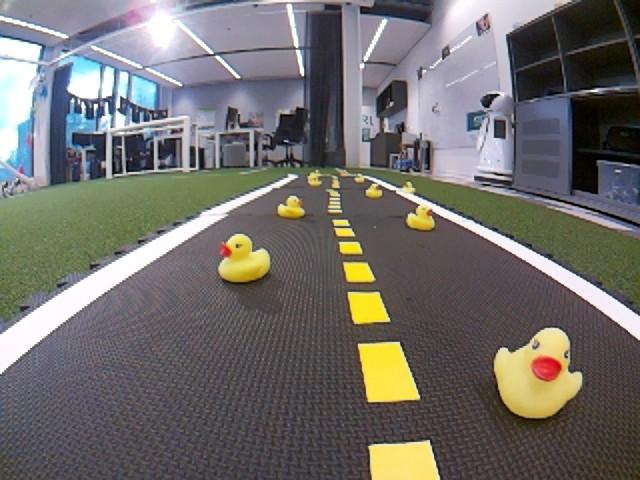Duckies: (493, 328, 584, 422), (221, 235, 271, 282), (406, 205, 436, 230), (276, 196, 304, 217), (366, 186, 382, 198), (403, 182, 416, 191), (308, 177, 321, 186), (354, 176, 363, 183), (309, 173, 318, 180)
